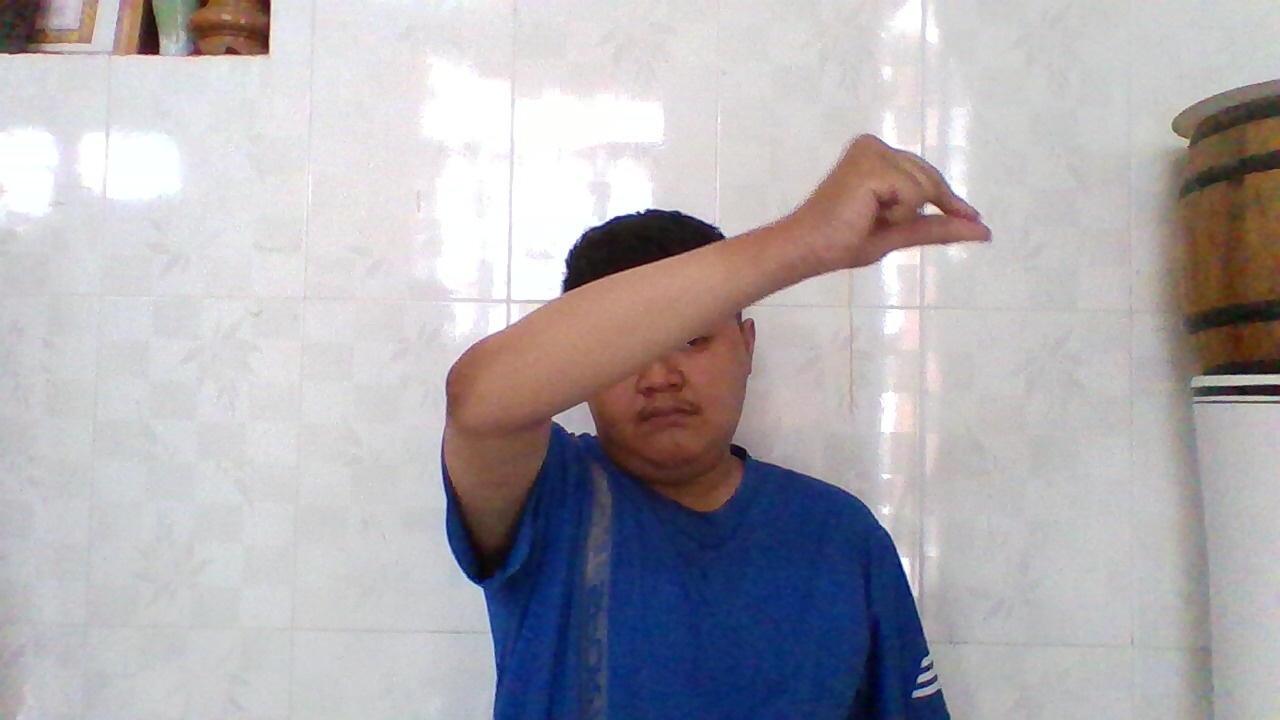S: (793, 124, 987, 267)
